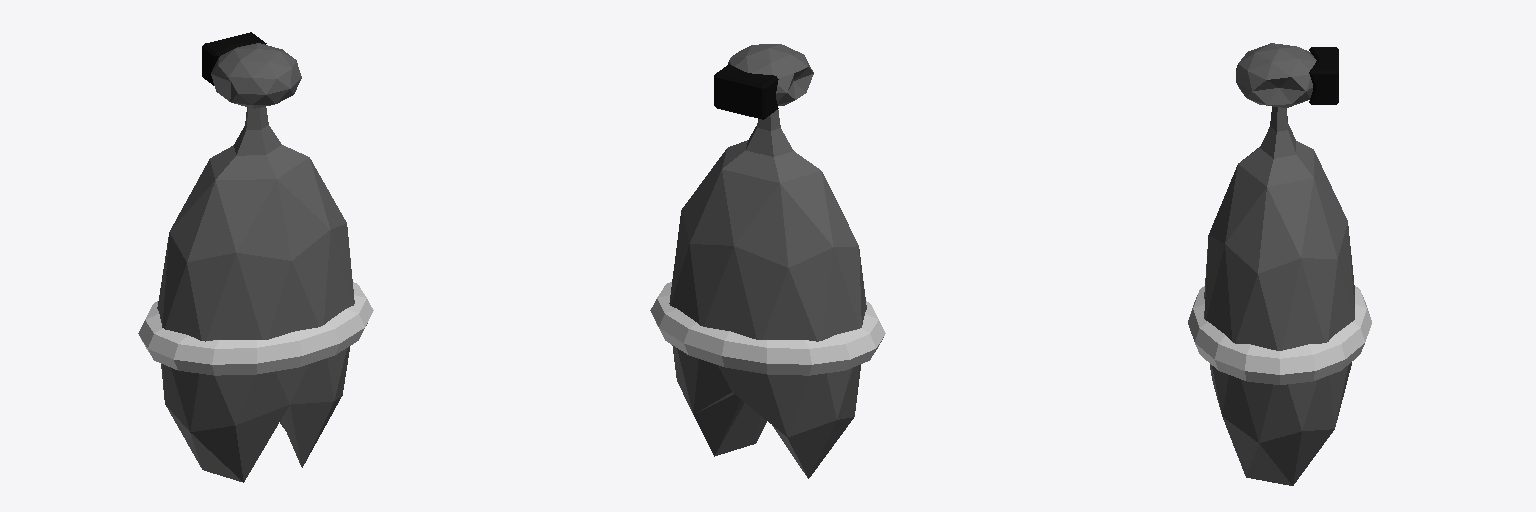
File: avatar.obj
The picture shows the model from 3 angles: view 1: azimuth 30°, elevation 25°; view 2: azimuth 150°, elevation 25°; view 3: azimuth 270°, elevation 25°; orthographic projection.
Parts seen in each view (by area): view 1: AvatarBody_Icosphere, AvatarBelt_Torus, AvatarHead_AvatarHeadGeom, AvatarHMD_Cube.001; view 2: AvatarBody_Icosphere, AvatarBelt_Torus, AvatarHead_AvatarHeadGeom, AvatarHMD_Cube.001; view 3: AvatarBody_Icosphere, AvatarBelt_Torus, AvatarHead_AvatarHeadGeom, AvatarHMD_Cube.001.
Boxes of the visible parts, x1,y1,x2,y2 form: AvatarBody_Icosphere: [157, 107, 354, 482]; AvatarBelt_Torus: [138, 282, 373, 375]; AvatarHead_AvatarHeadGeom: [211, 43, 301, 108]; AvatarHMD_Cube.001: [202, 32, 266, 85]; AvatarBody_Icosphere: [669, 110, 866, 478]; AvatarBelt_Torus: [650, 282, 885, 375]; AvatarHead_AvatarHeadGeom: [728, 44, 813, 105]; AvatarHMD_Cube.001: [714, 64, 778, 119]; AvatarBody_Icosphere: [1204, 106, 1354, 485]; AvatarBelt_Torus: [1188, 286, 1371, 384]; AvatarHead_AvatarHeadGeom: [1236, 43, 1316, 107]; AvatarHMD_Cube.001: [1309, 47, 1338, 104].
Bounding box in the file's own units: 1.03 × 1.89 × 0.762.